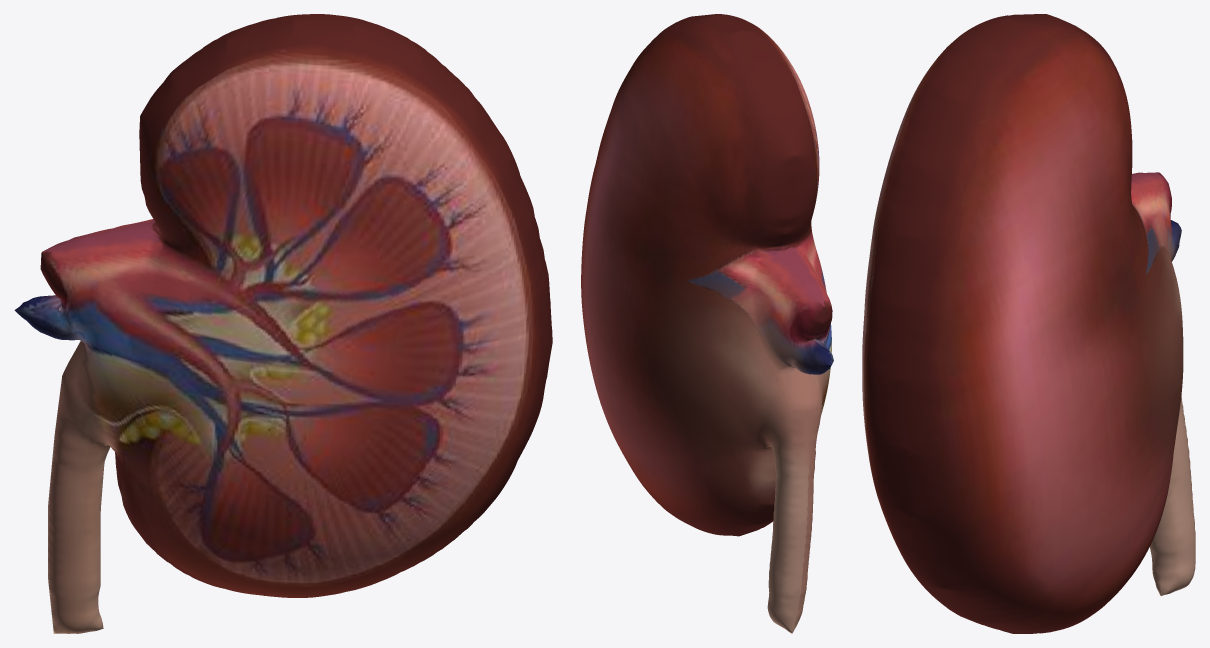
File: ginjal.glb
3 views of the same model, side by side, from view 1: azimuth 30°, elevation 25°; view 2: azimuth 150°, elevation 25°; view 3: azimuth 270°, elevation 25° (orthographic). The views are drawn at different scales.
Visible parts, largest first — view 1: mesh_id51; view 2: mesh_id51; view 3: mesh_id51.
Part boxes in pixels (<box>): mesh_id51: <box>14,14,552,633</box>; mesh_id51: <box>581,14,833,633</box>; mesh_id51: <box>862,14,1195,633</box>.
Size of the model in its own units: 0.1857 by 0.275 by 0.1302.
1 material, 1 textured.
